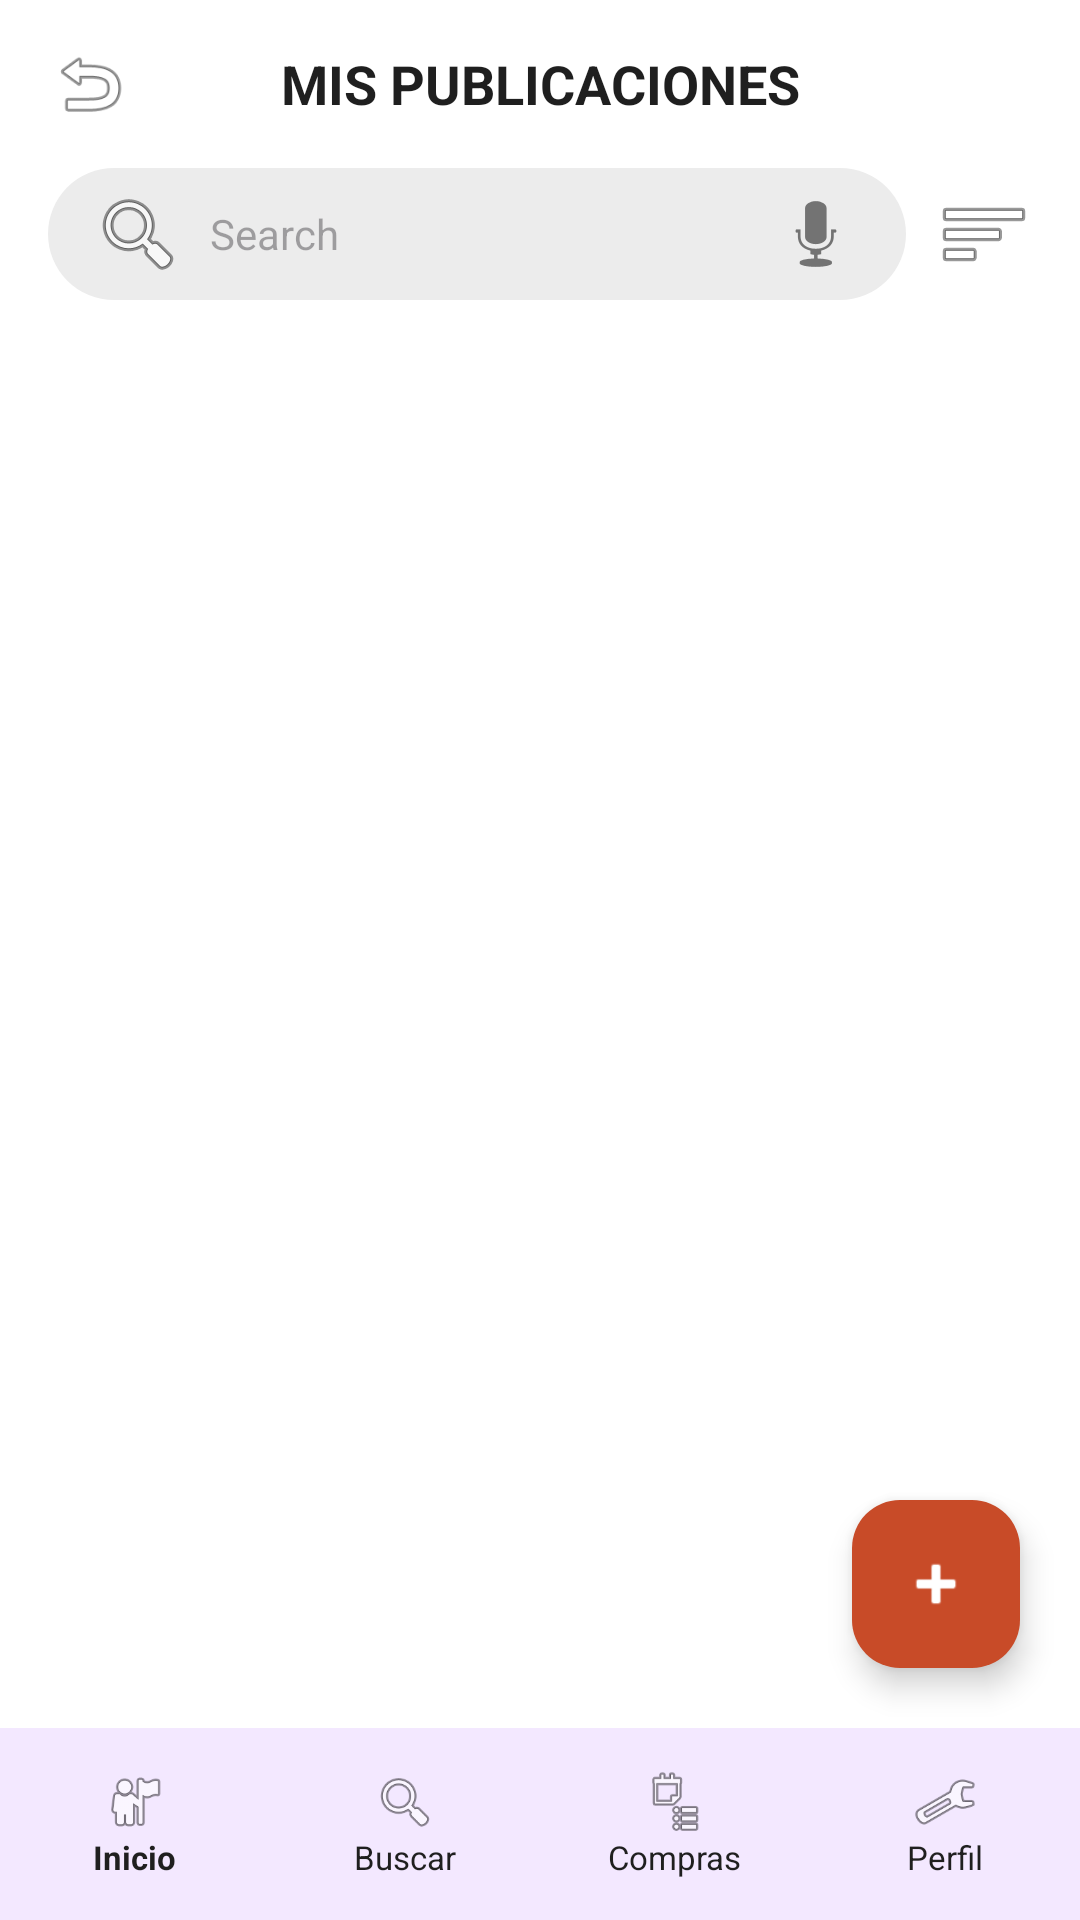

Icon click points for this 1080w x 1920h phone screenshot, format (x,y):
add: (936,1584)
agenda: (675,1801)
manage: (945,1802)
myplaces: (136,1802)
revert: (91,84)
sort by size: (984,234)
